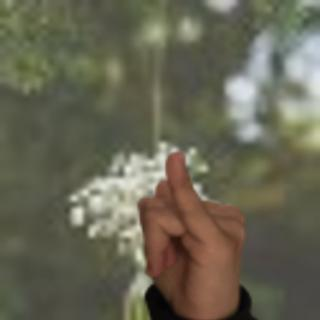HAVE: (124, 144, 264, 320)
